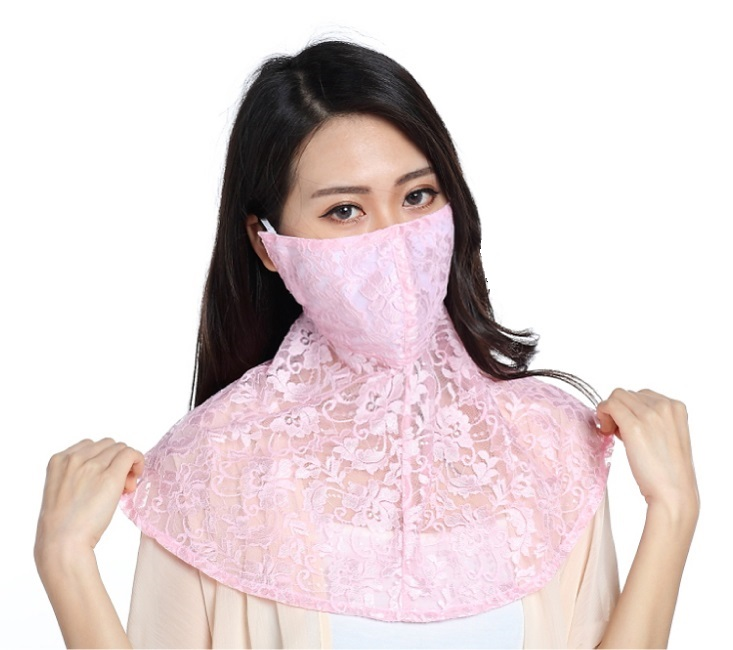face_mask: (288, 114, 453, 338)
